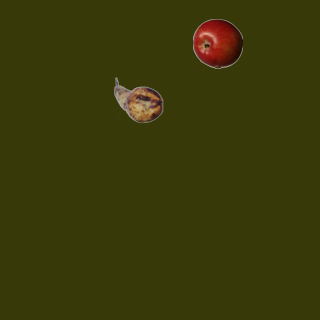Apple Braeburn: (192, 18, 242, 68)
Pear Abate: (113, 75, 163, 125)
